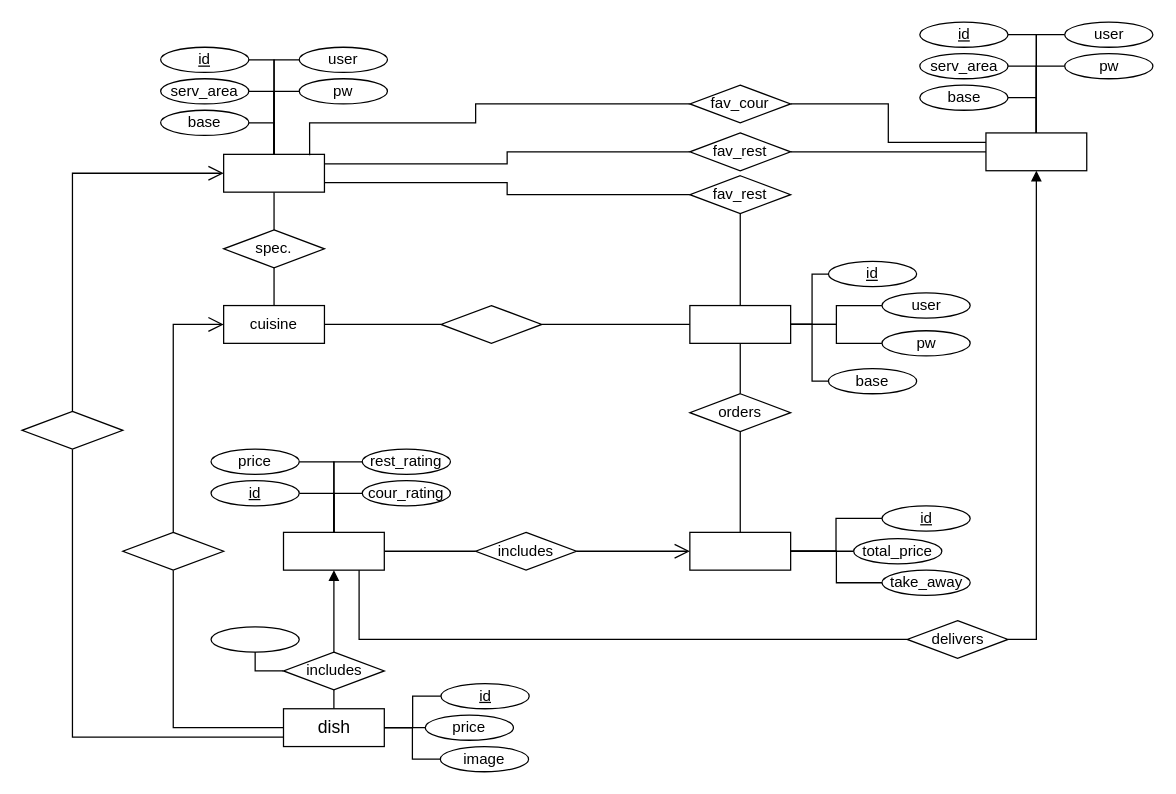
The diagram is 1176 pixels wide and 794 high, and some of its shapes have lost their labels. The centre of each missing label's shape, as x and y in pixels:
belongs_to: point 173,550
count: point 254,639
courier: point 1036,151
customer: point 740,323
made_by: point 72,429
order: point 740,550
pref.: point 491,323
restaurant: point 273,172
sub_order: point 333,550
